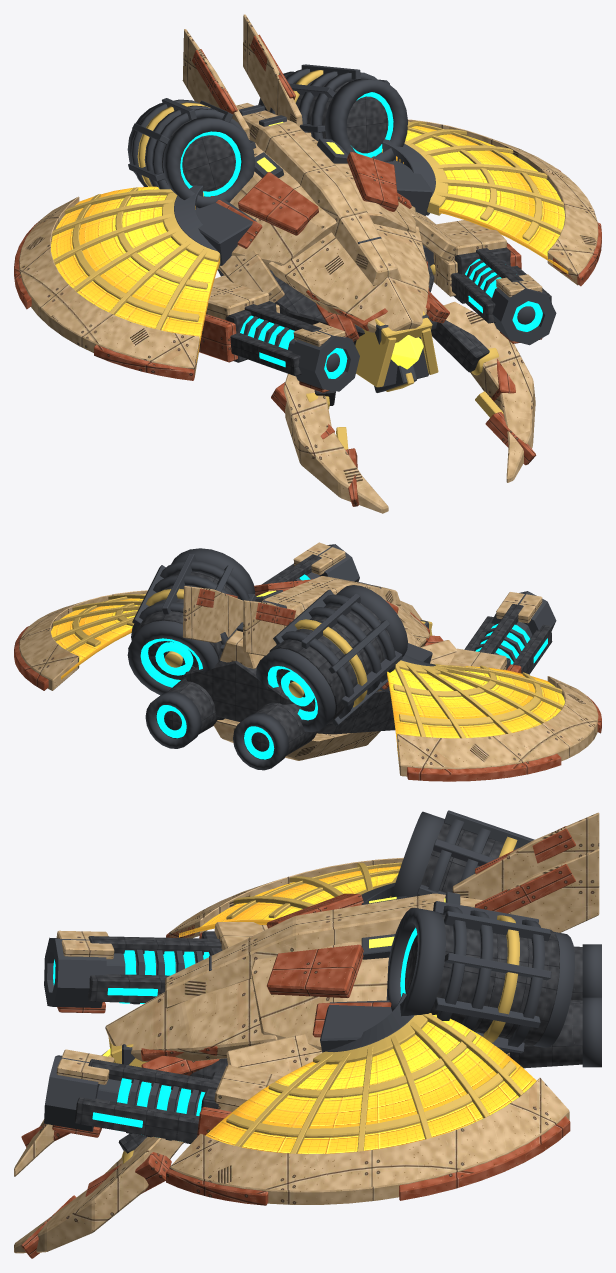
Rendered from boss_act4_scarab.glb.
The picture shows the model from 3 angles, top to bottom: view 1: azimuth 30°, elevation 25°; view 2: azimuth 150°, elevation 25°; view 3: azimuth 270°, elevation 25°; orthographic projection. The views are drawn at different scales.
Visible parts, largest first — view 1: WingDish_Gold_L, Carapace_FrontBrow, WingRim_OuterSand_L, Carapace_DorsalSpine, WingDish_Gold_R, Mandible_BladeSand_L, Mandible_BladeSand_R, Carapace_MidMantle, WingRim_OuterSand_R, Thruster_IntakeLip_L, Thruster_IntakeLip_R, Armor_TerraChevron_L (+46 smaller); view 2: WingRim_OuterSand_L, WingDish_Gold_L, Chassis_InnerCore, Thruster_Housing_L, WingRim_OuterSand_R, Carapace_DorsalSpine, TailFin_Outer_R, Thruster_ExhaustLip_L, Thruster_ExhaustLip_R, WingRim_OuterTerra_L, WingDish_Gold_R, Hull_VentralKeel (+55 smaller); view 3: WingRim_OuterSand_R, WingDish_Gold_R, Carapace_DorsalSpine, Carapace_FrontBrow, Thruster_Housing_R, Mandible_BladeSand_R, Carapace_MidMantle, Thruster_IntakeLip_R, Armor_TerraChevron_R, TailFin_Outer_L, TailFin_Outer_R, Cannon_SideRail_R_1 (+52 smaller).
Part boxes in pixels (bbox=[...]): WingDish_Gold_L: bbox=[51, 186, 219, 363]; Carapace_FrontBrow: bbox=[268, 224, 429, 332]; WingRim_OuterSand_L: bbox=[19, 196, 199, 377]; Carapace_DorsalSpine: bbox=[236, 103, 400, 285]; WingDish_Gold_R: bbox=[382, 126, 568, 274]; Mandible_BladeSand_L: bbox=[283, 374, 388, 513]; Mandible_BladeSand_R: bbox=[443, 301, 535, 482]; Carapace_MidMantle: bbox=[229, 132, 416, 270]; WingRim_OuterSand_R: bbox=[408, 119, 598, 285]; Thruster_IntakeLip_L: bbox=[162, 117, 255, 208]; Thruster_IntakeLip_R: bbox=[325, 79, 407, 161]; Armor_TerraChevron_L: bbox=[238, 172, 318, 235]; WingRim_OuterSand_L: bbox=[397, 676, 598, 776]; WingDish_Gold_L: bbox=[387, 666, 564, 759]; Chassis_InnerCore: bbox=[185, 661, 395, 734]; Thruster_Housing_L: bbox=[269, 603, 393, 724]; WingRim_OuterSand_R: bbox=[19, 590, 147, 690]; Carapace_DorsalSpine: bbox=[220, 576, 400, 668]; TailFin_Outer_R: bbox=[182, 586, 243, 642]; Thruster_ExhaustLip_L: bbox=[256, 648, 335, 732]; Thruster_ExhaustLip_R: bbox=[127, 620, 218, 695]; WingRim_OuterTerra_L: bbox=[407, 753, 561, 781]; WingDish_Gold_R: bbox=[51, 598, 143, 679]; Hull_VentralKeel: bbox=[213, 718, 380, 760]; WingRim_OuterSand_R: bbox=[169, 1078, 569, 1204]; WingDish_Gold_R: bbox=[205, 1014, 536, 1154]; Carapace_DorsalSpine: bbox=[165, 893, 482, 1008]; Carapace_FrontBrow: bbox=[105, 978, 277, 1061]; Thruster_Housing_R: bbox=[405, 914, 559, 1046]; Mandible_BladeSand_R: bbox=[14, 1136, 183, 1253]; Carapace_MidMantle: bbox=[251, 941, 388, 1050]; Thruster_IntakeLip_R: bbox=[386, 907, 445, 1016]; Armor_TerraChevron_R: bbox=[267, 944, 363, 997]; TailFin_Outer_L: bbox=[452, 812, 599, 900]; TailFin_Outer_R: bbox=[473, 849, 599, 932]; Cannon_SideRail_R_1: bbox=[74, 1097, 199, 1143].
Size of the model in its own units: 8.81 by 4.82 by 6.69.
Materials: 9 (4 with a texture image).
